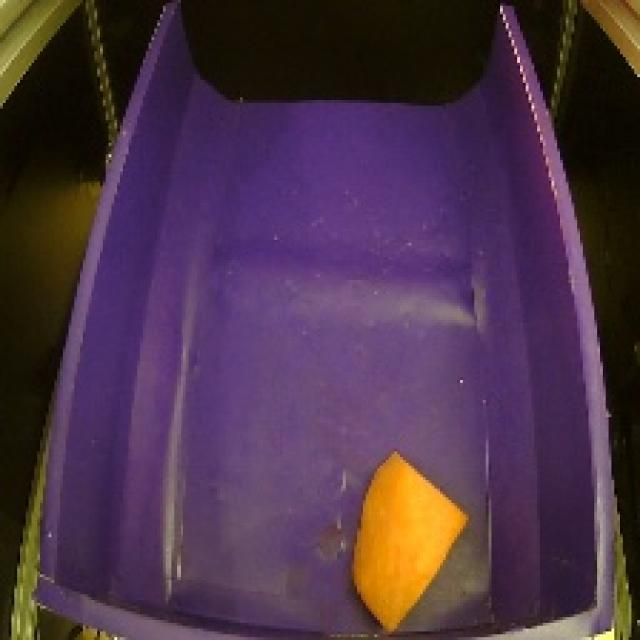carrots: (343, 443, 476, 639)
